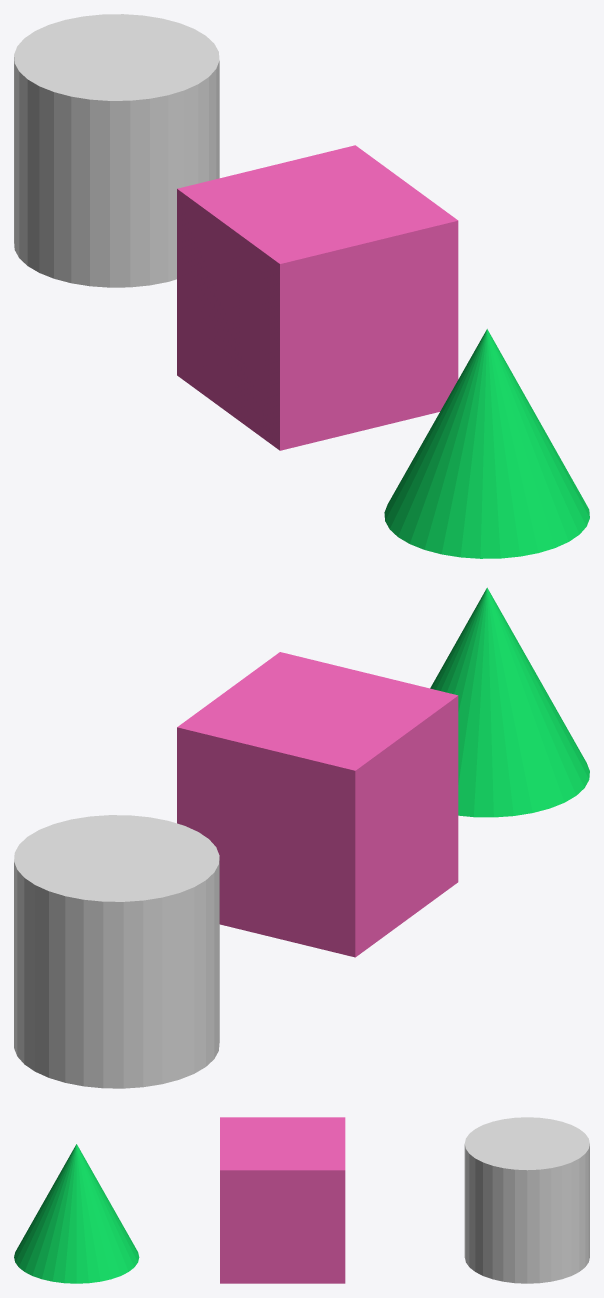
Rendered from gltf.glb.
The picture shows the model from 3 angles, top to bottom: view 1: azimuth 30°, elevation 25°; view 2: azimuth 150°, elevation 25°; view 3: azimuth 270°, elevation 25°; orthographic projection. The views are drawn at different scales.
Visible parts, largest first — view 1: Cube, Cylinder, Cone; view 2: Cube, Cylinder, Cone; view 3: Cube, Cylinder, Cone.
Part boxes in pixels (x1,y1,x2,y2): Cube: (177, 145, 458, 450); Cylinder: (14, 14, 219, 287); Cone: (384, 329, 589, 558); Cube: (177, 652, 458, 957); Cylinder: (14, 815, 219, 1088); Cone: (430, 587, 589, 817); Cube: (220, 1117, 345, 1283); Cylinder: (464, 1117, 589, 1283); Cone: (14, 1144, 139, 1283).
Size of the model in its own units: 2 by 2 by 9.19.
